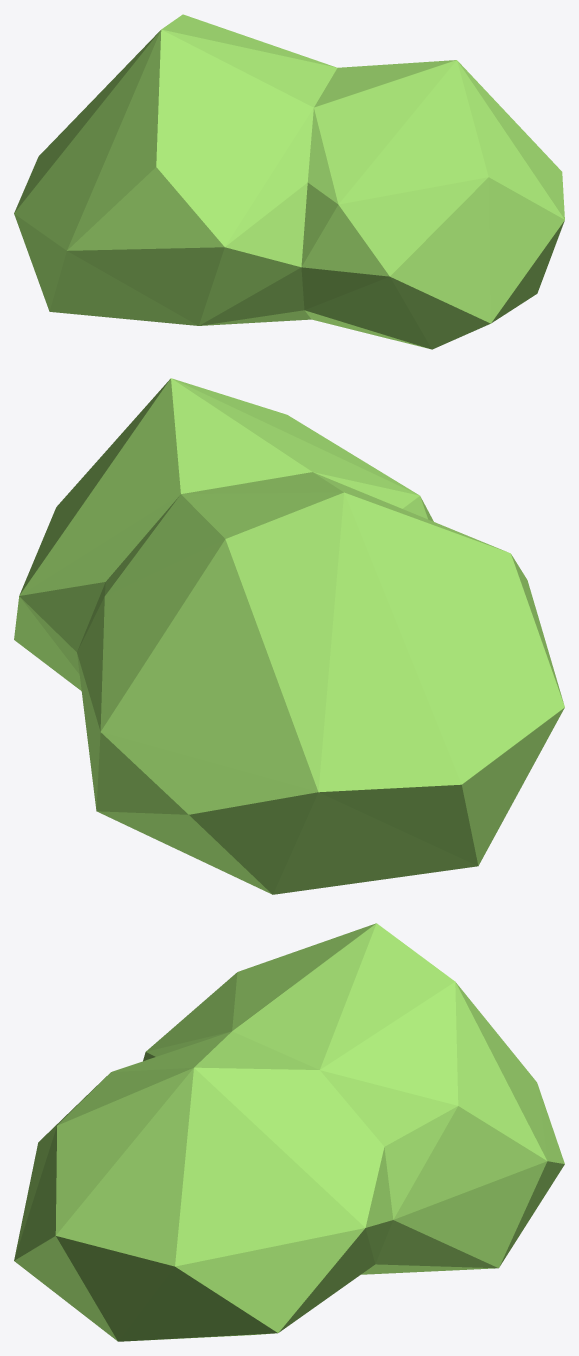
The model's file is bush_0.fbx.
3 views of the same model, one above another, from view 1: azimuth 30°, elevation 25°; view 2: azimuth 150°, elevation 25°; view 3: azimuth 270°, elevation 25° (orthographic). The views are drawn at different scales.
Visible parts, largest first — view 1: Icosphere.009; view 2: Icosphere.009; view 3: Icosphere.009.
Boxes of the visible parts, x1,y1,x2,y2 form: Icosphere.009: (14, 14, 564, 349); Icosphere.009: (14, 378, 564, 894); Icosphere.009: (14, 923, 564, 1341).
Bounding box in the file's own units: 260 × 147 × 248.
